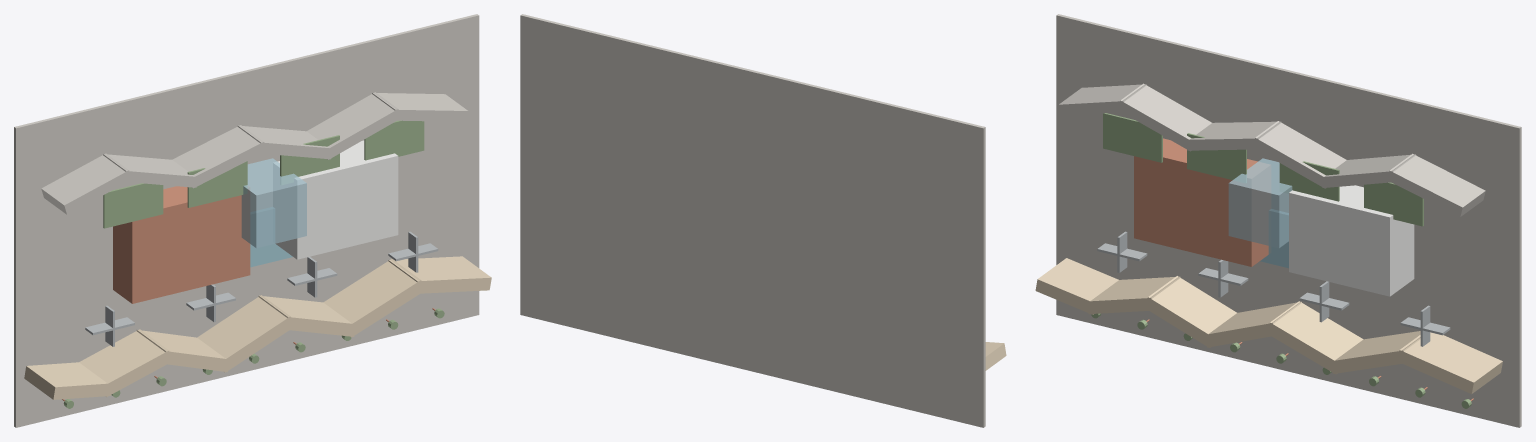
File: desert_ribbon.glb
3 views of the same model, side by side, from view 1: azimuth 30°, elevation 25°; view 2: azimuth 150°, elevation 25°; view 3: azimuth 330°, elevation 25° (orthographic).
Visible parts, largest first — view 1: site_base, west_gallery, east_gallery, central_lantern, front_ribbon_05, front_ribbon_03, front_ribbon_01, rear_ribbon_00, rear_ribbon_02, rear_ribbon_04, front_ribbon_06, front_ribbon_00 (+10 smaller); view 2: site_base, front_ribbon_00; view 3: site_base, west_gallery, east_gallery, central_lantern, front_ribbon_06, front_ribbon_04, front_ribbon_02, rear_ribbon_05, rear_ribbon_01, rear_ribbon_03, front_ribbon_00, front_ribbon_05 (+10 smaller).
Part boxes in pixels (bbox=[...]): site_base: bbox=[14, 14, 479, 427]; west_gallery: bbox=[113, 186, 250, 303]; east_gallery: bbox=[273, 140, 398, 259]; central_lantern: bbox=[241, 158, 306, 248]; front_ribbon_05: bbox=[323, 259, 424, 337]; front_ribbon_03: bbox=[197, 295, 294, 372]; front_ribbon_01: bbox=[79, 329, 172, 396]; rear_ribbon_00: bbox=[41, 153, 131, 214]; rear_ribbon_02: bbox=[172, 125, 266, 188]; rear_ribbon_04: bbox=[307, 92, 398, 159]; front_ribbon_06: bbox=[388, 256, 491, 293]; front_ribbon_00: bbox=[24, 362, 111, 399]; site_base: bbox=[520, 14, 985, 427]; front_ribbon_00: bbox=[985, 342, 1006, 370]; site_base: bbox=[1056, 14, 1521, 427]; west_gallery: bbox=[1134, 138, 1270, 266]; east_gallery: bbox=[1289, 185, 1414, 296]; central_lantern: bbox=[1228, 158, 1292, 248]; front_ribbon_06: bbox=[1397, 332, 1502, 393]; front_ribbon_04: bbox=[1267, 301, 1363, 374]; front_ribbon_02: bbox=[1144, 276, 1236, 347]; rear_ribbon_05: bbox=[1387, 153, 1485, 216]; rear_ribbon_01: bbox=[1120, 83, 1211, 151]; rear_ribbon_03: bbox=[1255, 121, 1346, 188]; front_ribbon_00: bbox=[1035, 258, 1118, 314]; front_ribbon_05: bbox=[1331, 331, 1420, 373].
Size of the model in its own units: 110 by 68 by 14.8.
